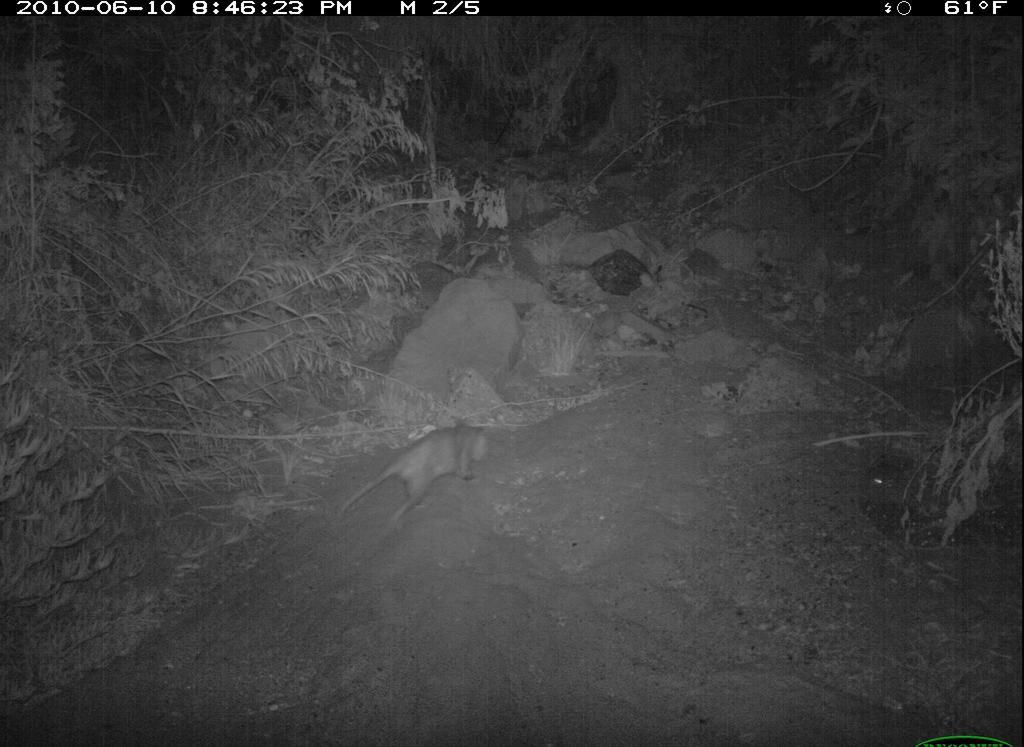opossum: (333, 422, 501, 542)
